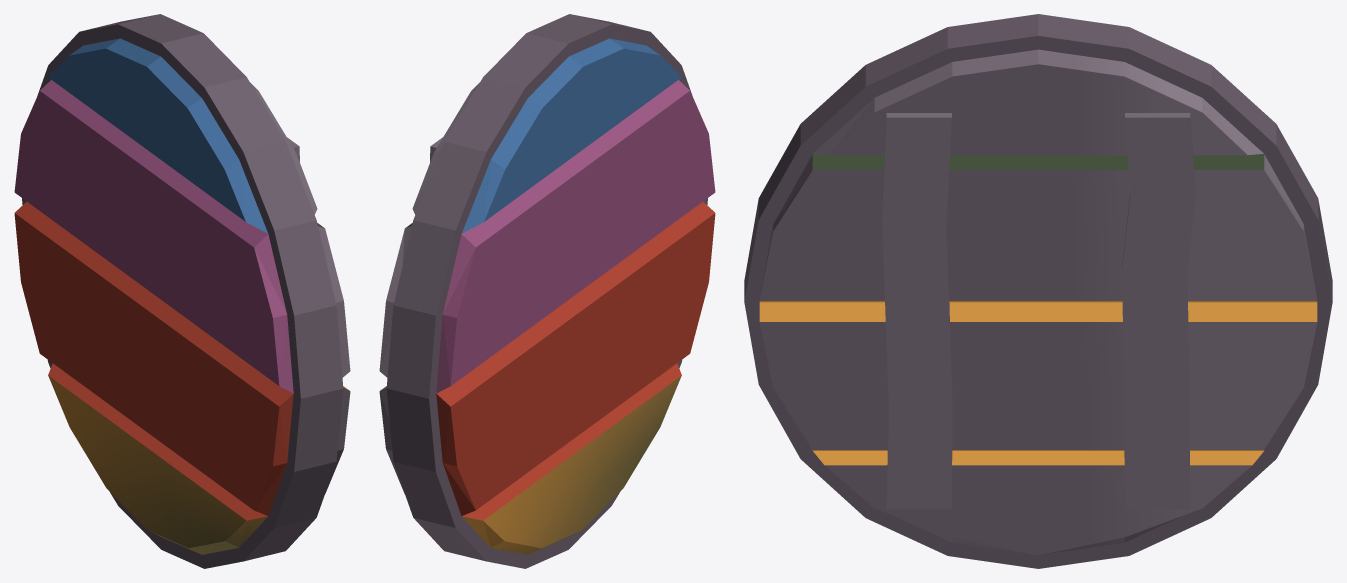
The model's file is SM_Prop_Cart_Wheel_02.fbx.
3 views of the same model, side by side, from view 1: azimuth 30°, elevation 25°; view 2: azimuth 150°, elevation 25°; view 3: azimuth 270°, elevation 25° (orthographic). The views are drawn at different scales.
Visible parts, largest first — view 1: SM_Prop_Cart_Wheel_02; view 2: SM_Prop_Cart_Wheel_02; view 3: SM_Prop_Cart_Wheel_02.
Part boxes in pixels (left/top/right/bottom): SM_Prop_Cart_Wheel_02: left=14, top=14, right=350, bottom=568; SM_Prop_Cart_Wheel_02: left=379, top=14, right=715, bottom=568; SM_Prop_Cart_Wheel_02: left=744, top=14, right=1332, bottom=568.
Size of the model in its own units: 0.1595 by 0.957 by 0.957.
1 material, 1 textured.
